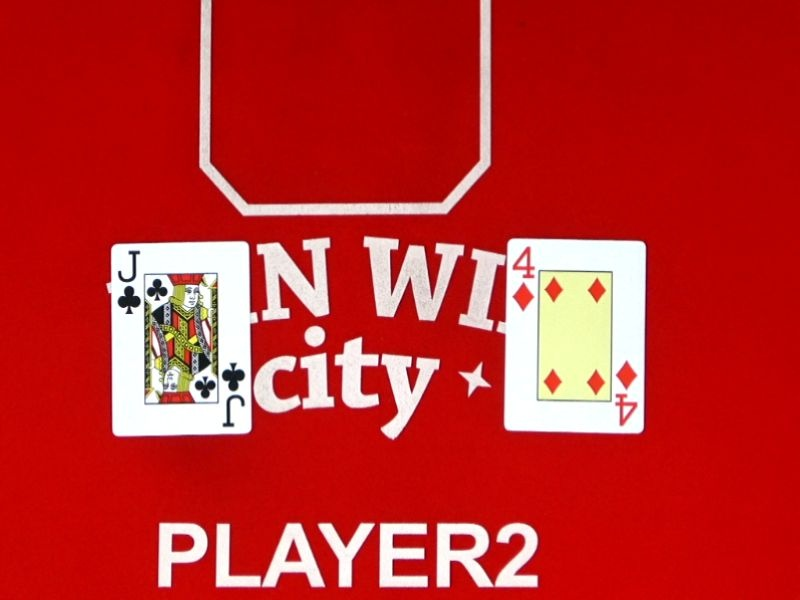4D: (486, 243, 564, 315), (588, 358, 664, 429)
JC: (88, 248, 166, 319), (195, 361, 273, 432)
